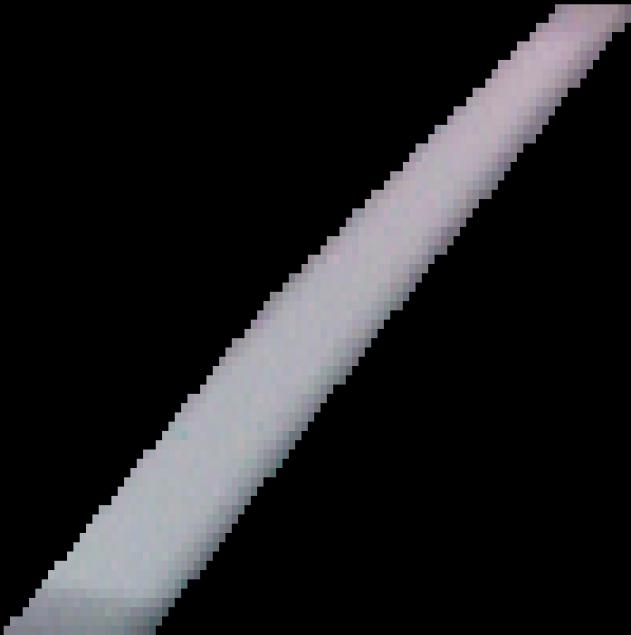lane: (0, 0, 631, 635)
